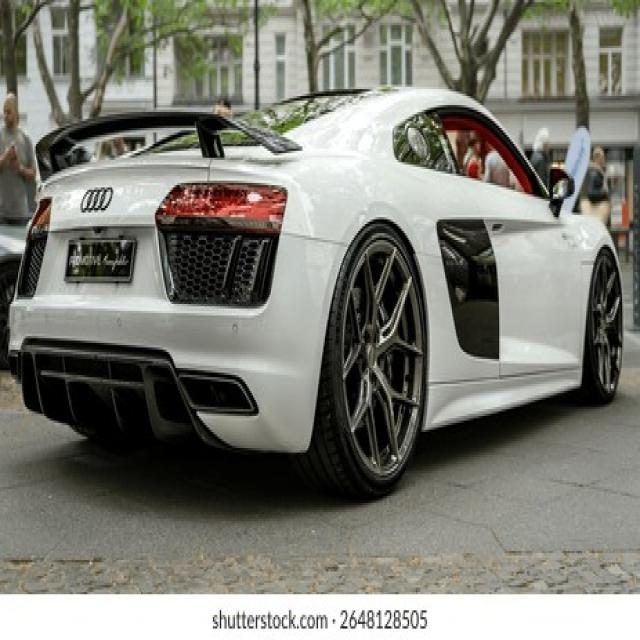audi: (78, 182, 118, 217)
